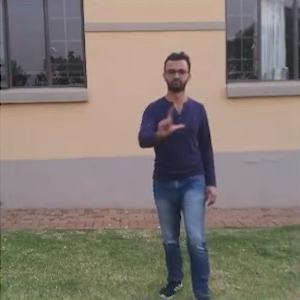land_hand: (154, 102, 185, 138)
